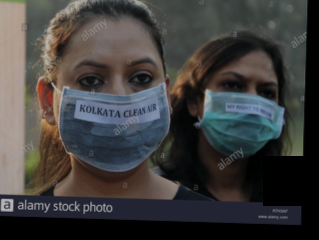with_mask: (52, 50, 171, 173), (199, 67, 284, 158)
